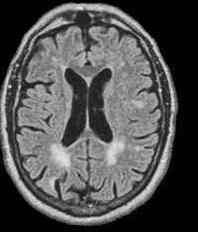Normal_Brain: (1, 1, 191, 232)
